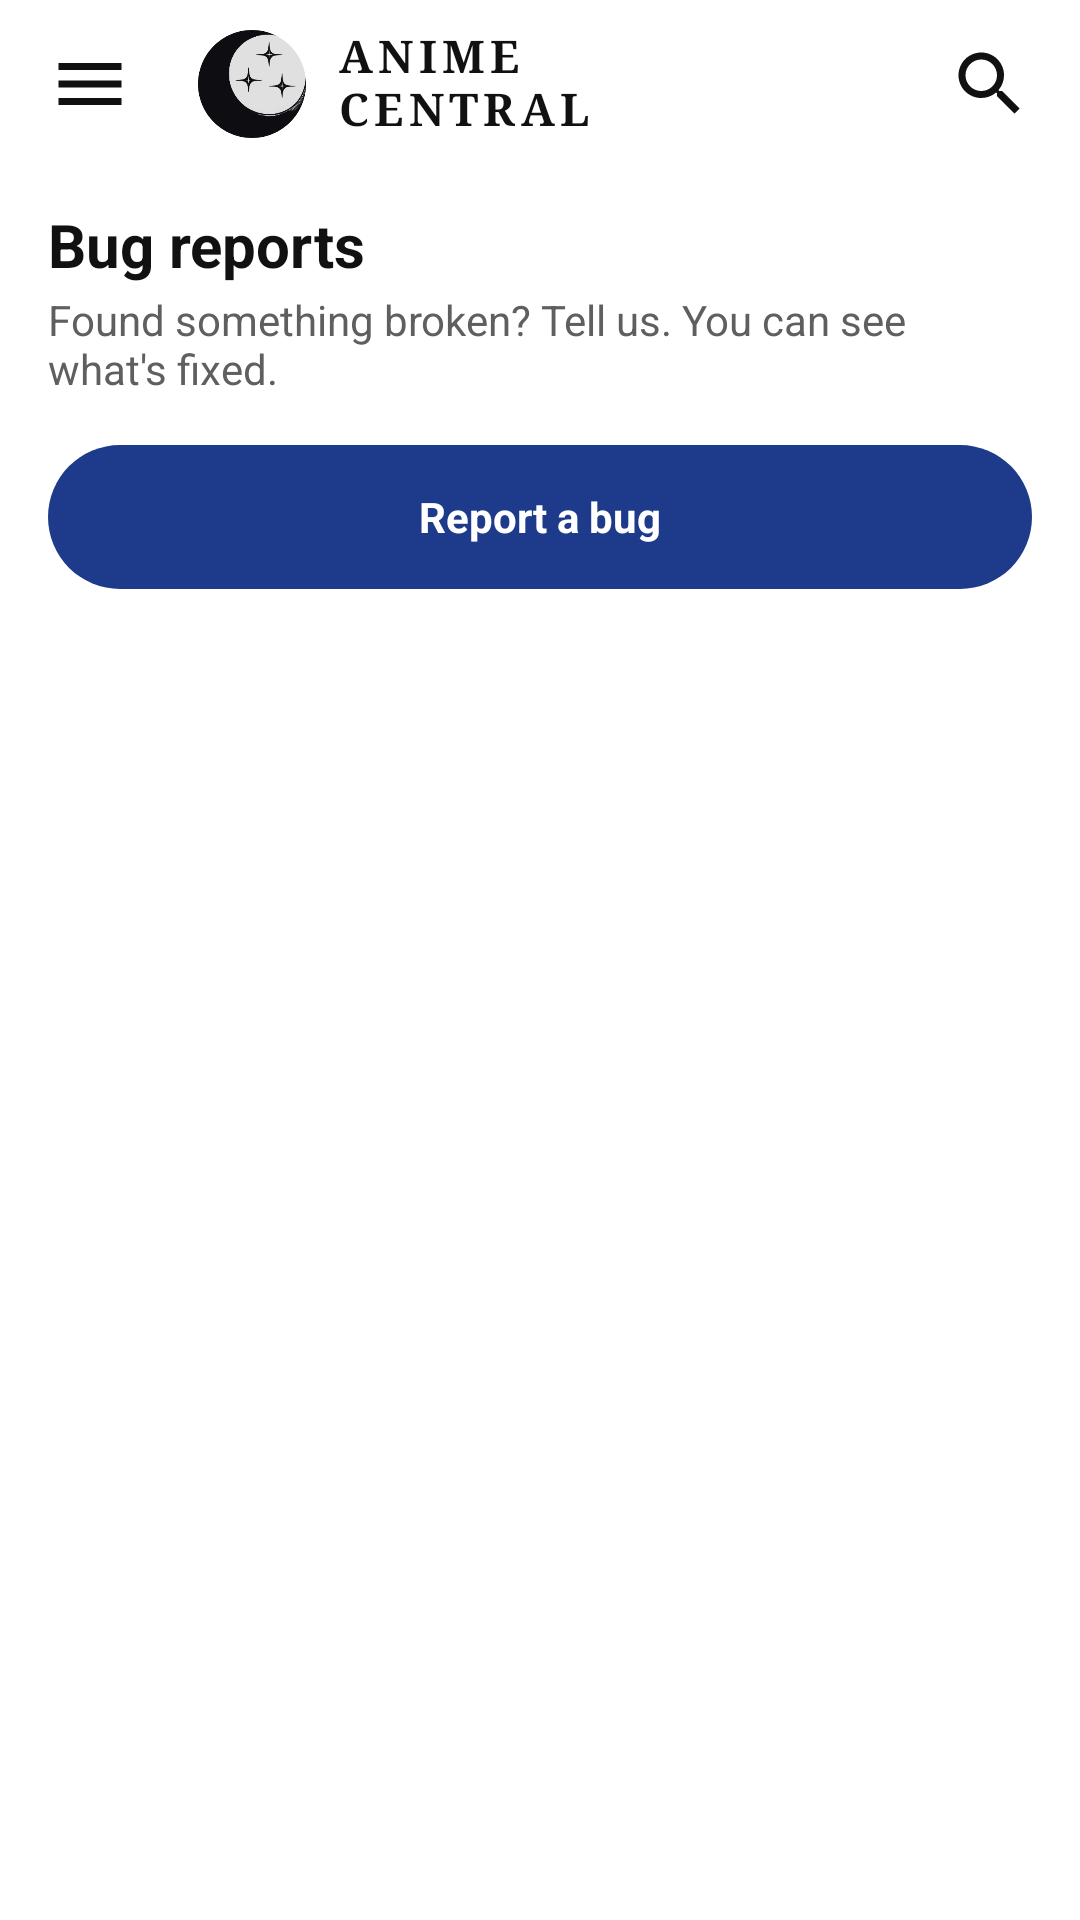

Point at icon controls on the screen. Image size 1080 × 1920, points as point (x, y).
Menu: point (90, 84)
Search: point (989, 83)
